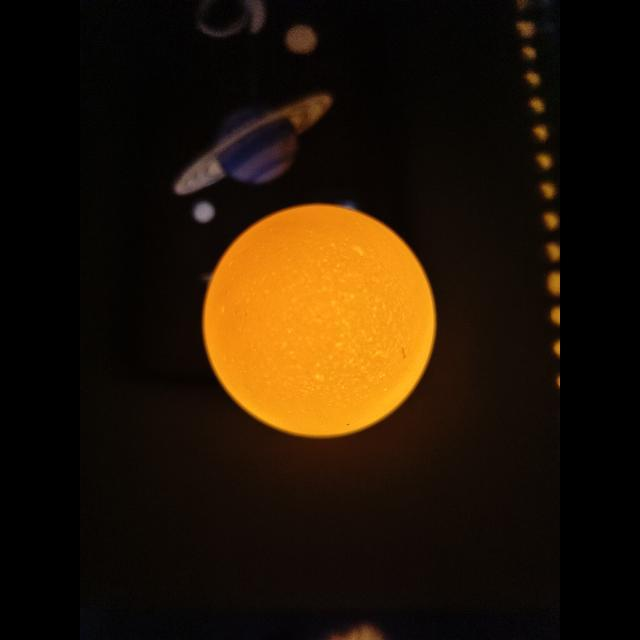AA - Premium: (204, 205, 435, 436)
